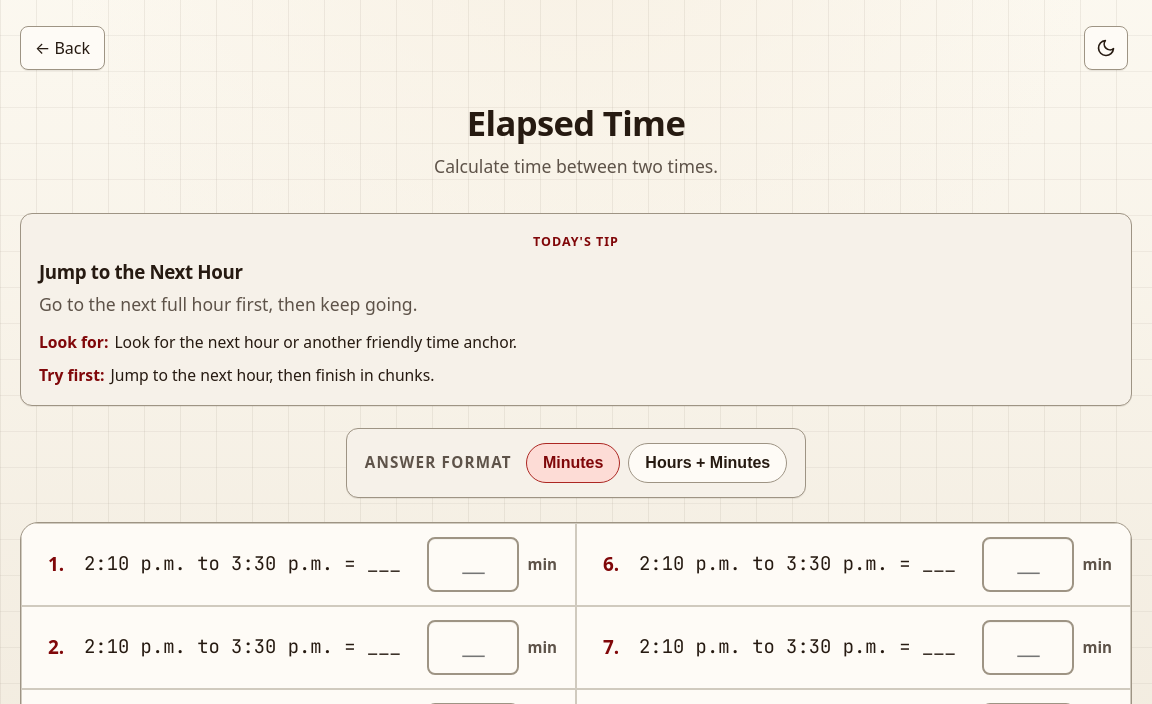
Test: Quiz elapsed time answers › shows a quiz-level toggle for minutes or hours and minutes
Expected: the button "Minutes" is shown, x1=526 y1=443 x2=620 y2=483
Expected: the field named "problem 1 total minutes" is shown, x1=428 y1=537 x2=520 y2=592
What coordinates should you click on to do the following:
click the button "Hours + Minutes"
I would click on:
 (708, 463)
Its box is x1=628 y1=443 x2=787 y2=483.
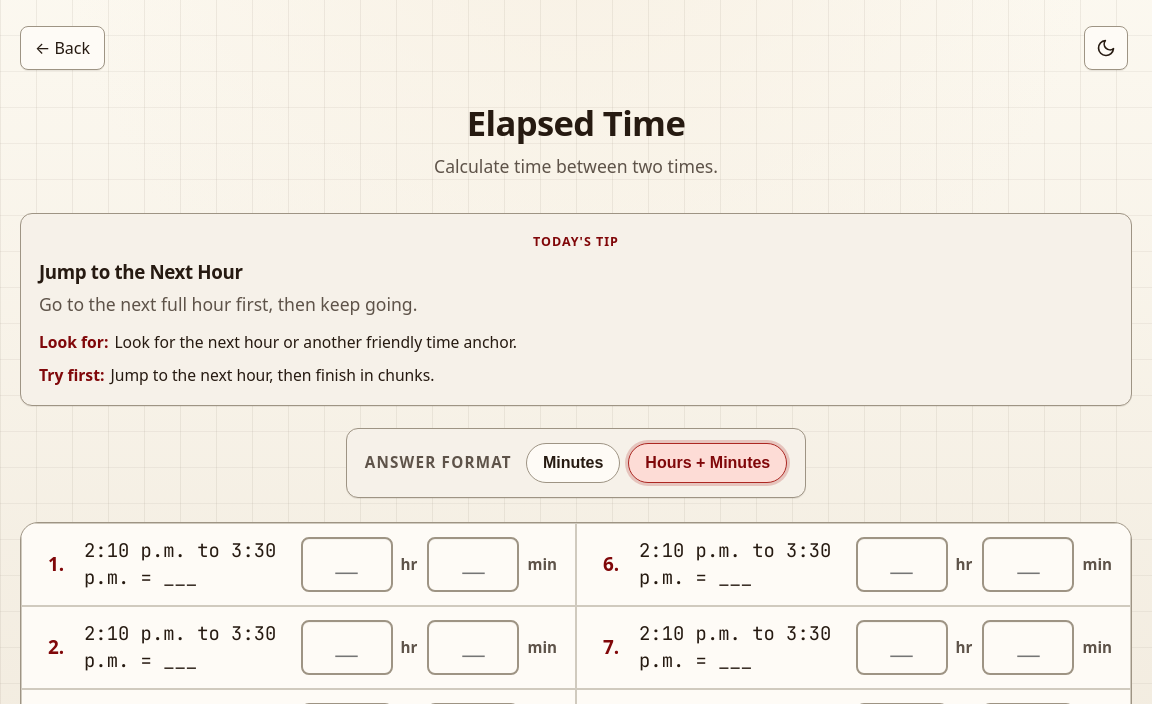
Expected: the field named "problem 1 minutes" is shown, x1=428 y1=537 x2=520 y2=592
Expected: the field named "problem 1 hours" is shown, x1=301 y1=537 x2=393 y2=592
